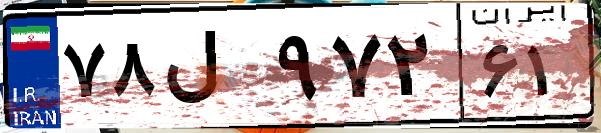1: (525, 38, 570, 115)
2: (385, 28, 445, 110)
6: (475, 38, 525, 113)
7: (330, 28, 385, 110), (57, 26, 110, 100)
8: (110, 28, 158, 98)
9: (270, 28, 330, 110)
ل: (158, 20, 270, 120)
